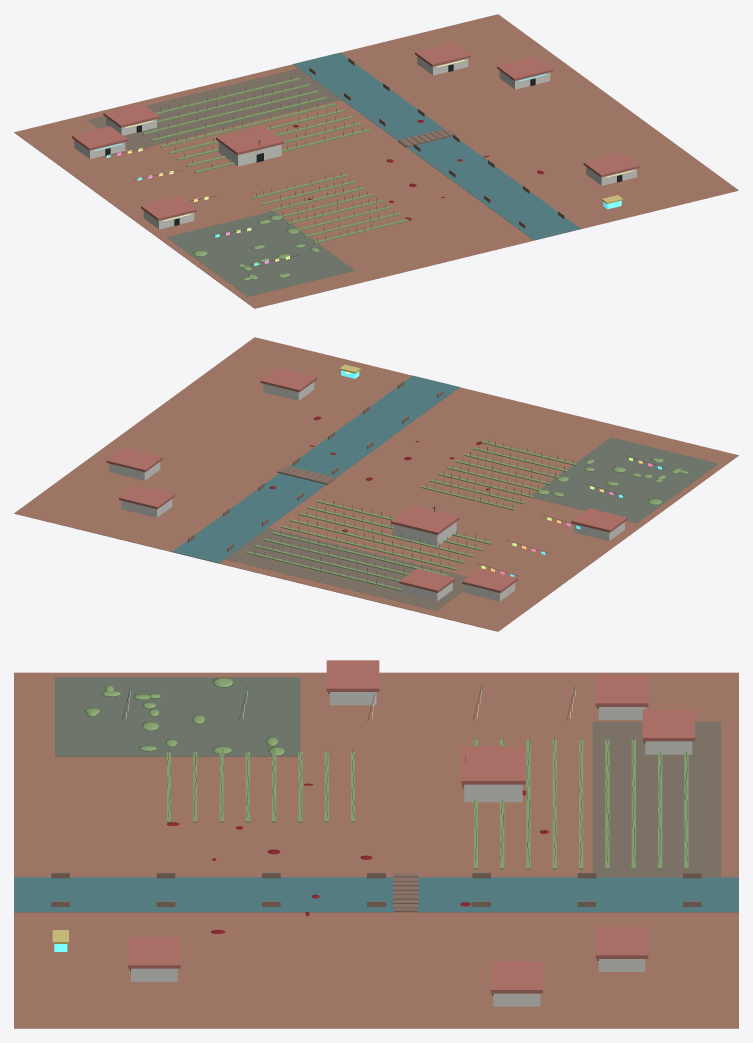
Rendered from level_06_setimo_filho_paraguay.glb.
3 views of the same model, one above another, from view 1: azimuth 30°, elevation 25°; view 2: azimuth 150°, elevation 25°; view 3: azimuth 270°, elevation 25° (orthographic). The views are drawn at different scales.
Visible parts, largest first — view 1: wide_red_soil_ground, dark_river_channel, swampy_lowland_west, farmyard_north, small_chapel_roof, rural_house_1_roof, rural_house_4_roof, rural_house_3_roof, rural_house_0_roof, rural_house_2_roof, rural_house_5_roof, small_chapel_body (+3 smaller); view 2: wide_red_soil_ground, dark_river_channel, swampy_lowland_west, farmyard_north, small_chapel_roof, rural_house_5_roof, rural_house_1_roof, rural_house_3_roof, rural_house_4_roof, rural_house_0_roof, rural_house_2_roof, small_chapel_body (+4 smaller); view 3: wide_red_soil_ground, dark_river_channel, swampy_lowland_west, farmyard_north, small_chapel_roof, rural_house_3_roof, rural_house_1_roof, rural_house_0_roof, rural_house_2_roof, rural_house_5_roof, rural_house_4_roof, small_chapel_body (+10 smaller).
Part boxes in pixels (bbox=[...]): wide_red_soil_ground: bbox=[14, 14, 738, 308]; dark_river_channel: bbox=[293, 52, 580, 240]; swampy_lowland_west: bbox=[166, 211, 354, 296]; farmyard_north: bbox=[87, 68, 341, 150]; small_chapel_roof: bbox=[216, 126, 284, 155]; rural_house_1_roof: bbox=[103, 103, 159, 127]; rural_house_4_roof: bbox=[583, 153, 639, 177]; rural_house_3_roof: bbox=[497, 56, 552, 80]; rural_house_0_roof: bbox=[72, 126, 127, 150]; rural_house_2_roof: bbox=[415, 42, 470, 66]; rural_house_5_roof: bbox=[141, 196, 196, 220]; small_chapel_body: bbox=[218, 142, 281, 166]; wide_red_soil_ground: bbox=[14, 337, 738, 631]; dark_river_channel: bbox=[172, 375, 459, 563]; swampy_lowland_west: bbox=[532, 437, 718, 522]; farmyard_north: bbox=[225, 528, 467, 610]; small_chapel_roof: bbox=[391, 505, 459, 534]; rural_house_5_roof: bbox=[571, 508, 627, 532]; rural_house_1_roof: bbox=[399, 568, 455, 592]; rural_house_3_roof: bbox=[106, 448, 162, 472]; rural_house_4_roof: bbox=[260, 368, 316, 392]; rural_house_0_roof: bbox=[462, 568, 517, 592]; rural_house_2_roof: bbox=[119, 485, 174, 509]; small_chapel_body: bbox=[393, 522, 456, 546]; wide_red_soil_ground: bbox=[14, 672, 738, 1028]; dark_river_channel: bbox=[14, 877, 738, 912]; swampy_lowland_west: bbox=[55, 677, 300, 756]; farmyard_north: bbox=[592, 721, 721, 877]; small_chapel_roof: bbox=[461, 746, 525, 784]; rural_house_3_roof: bbox=[490, 961, 542, 993]; rural_house_1_roof: bbox=[642, 709, 694, 741]; rural_house_0_roof: bbox=[595, 675, 648, 706]; rural_house_2_roof: bbox=[595, 927, 648, 958]; rural_house_5_roof: bbox=[326, 660, 379, 691]; rural_house_4_roof: bbox=[128, 937, 180, 968]; small_chapel_body: bbox=[464, 784, 522, 802].
Size of the model in its own units: 144 by 6.08 by 124.
